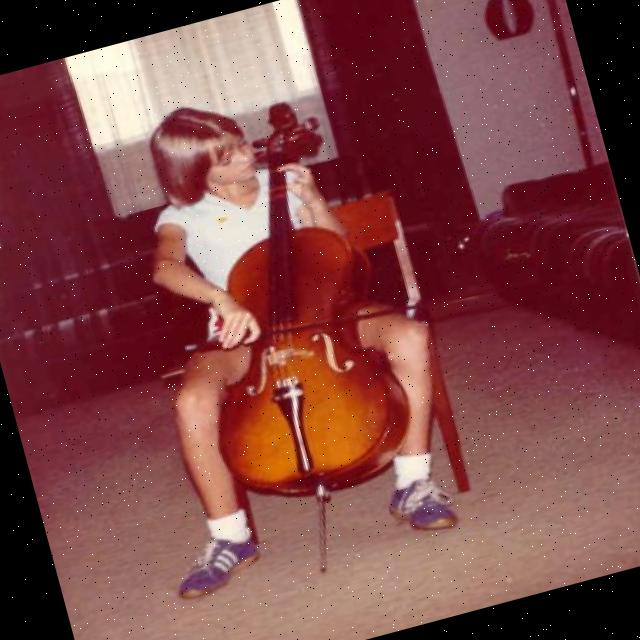cello: (135, 86, 432, 520)
